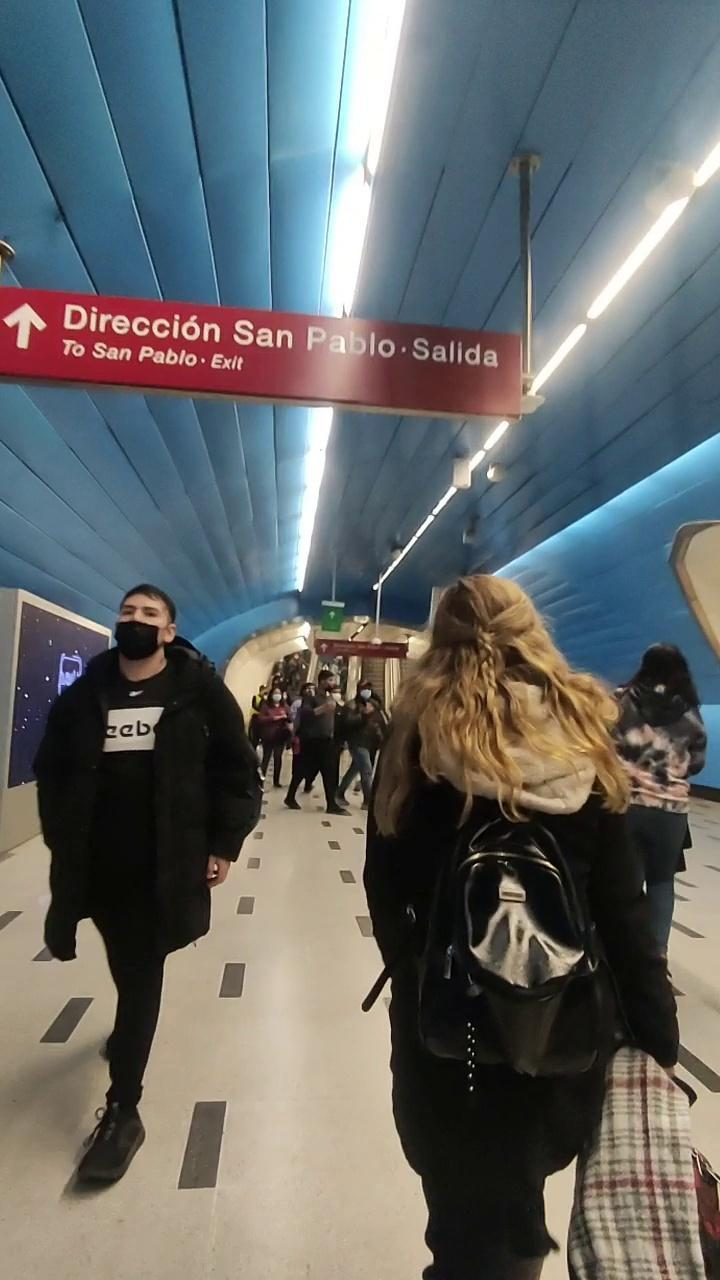up arrow: (6, 292, 56, 364), (321, 604, 342, 632)
